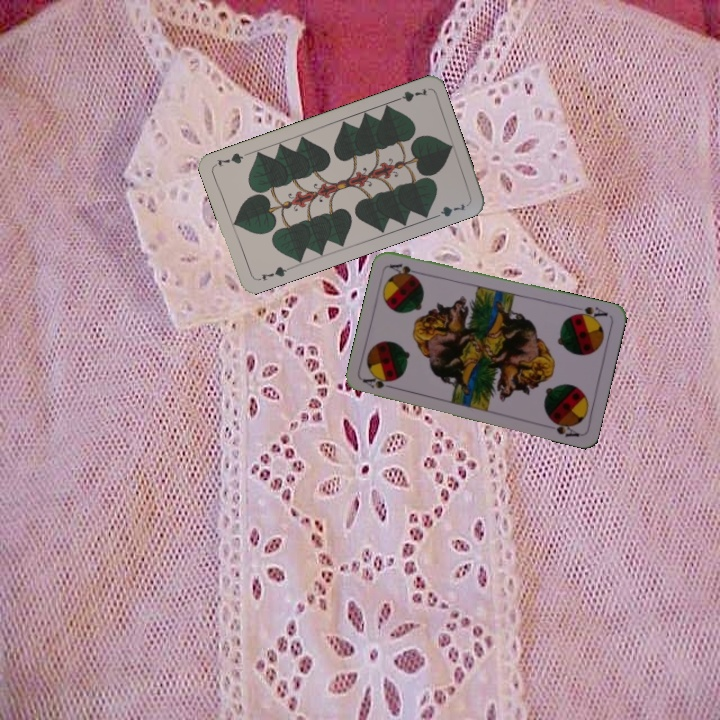G7: (253, 262, 293, 284), (389, 84, 430, 105)
SA: (569, 302, 610, 323), (359, 373, 400, 391)
